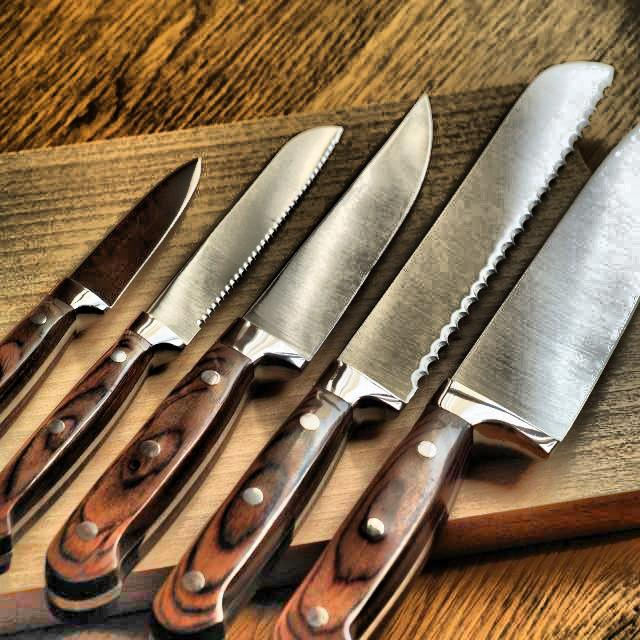knife: (153, 58, 614, 640), (35, 90, 436, 610), (273, 116, 640, 640), (0, 122, 349, 560), (0, 156, 205, 417)
